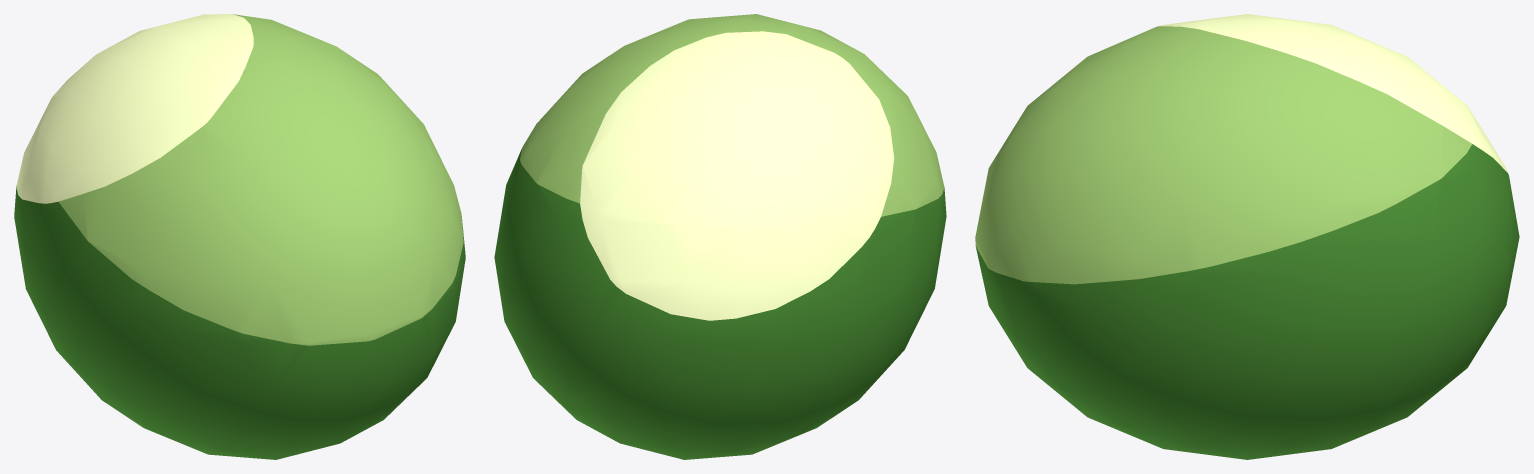
Rendered from green_grape.glb.
3 views of the same model, side by side, from view 1: azimuth 30°, elevation 25°; view 2: azimuth 150°, elevation 25°; view 3: azimuth 270°, elevation 25° (orthographic). The views are drawn at different scales.
Parts seen in each view (by area): view 1: green_grape; view 2: green_grape; view 3: green_grape.
Part boxes in pixels (x1,y1,x2,y2): green_grape: (14, 14, 465, 459); green_grape: (494, 14, 946, 459); green_grape: (975, 14, 1519, 459).
Bounding box in the file's own units: 4.1 × 4.2 × 5.1.
